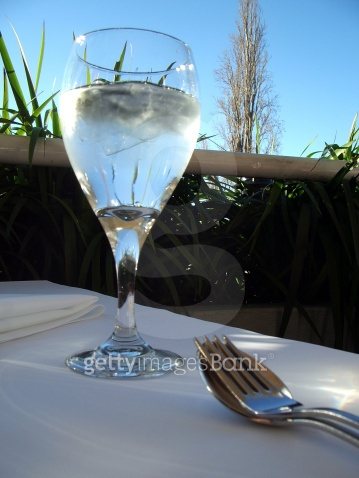glass of water: (56, 19, 206, 393)
